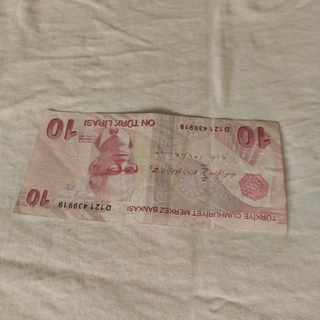10TLBack: (12, 111, 288, 238)
